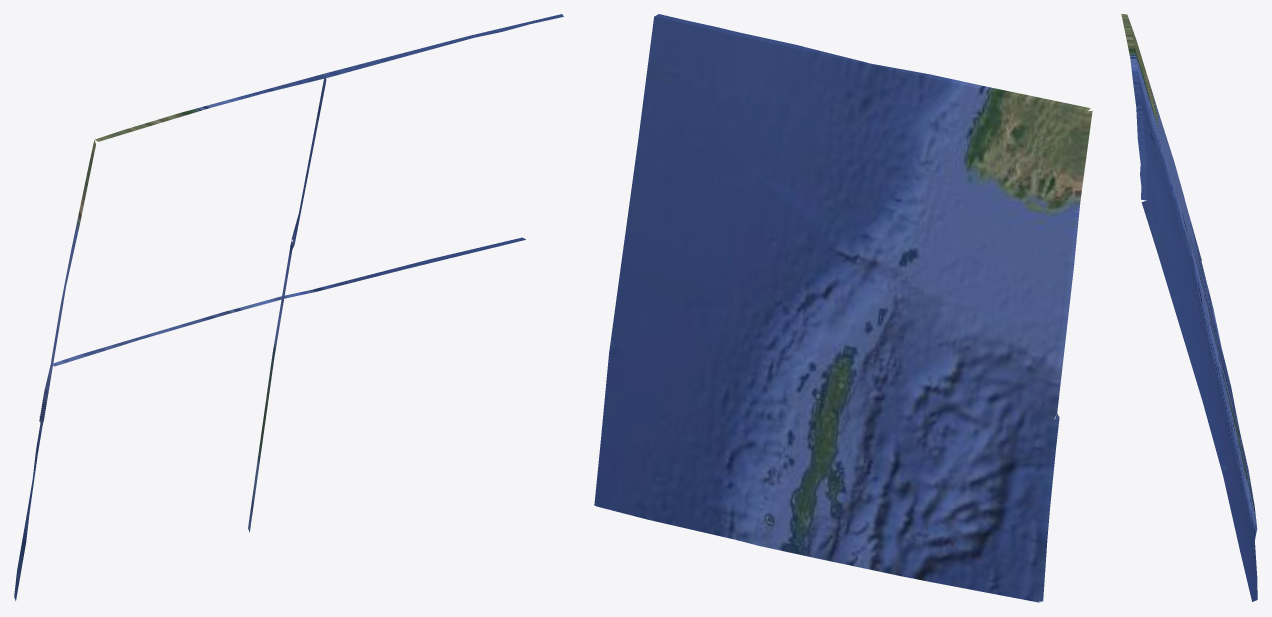
3 views of the same model, side by side, from view 1: azimuth 30°, elevation 25°; view 2: azimuth 150°, elevation 25°; view 3: azimuth 270°, elevation 25° (orthographic). The views are drawn at different scales.
Size of the model in its own units: 622403 by 612079 by 186610.
1 material, 1 textured.
